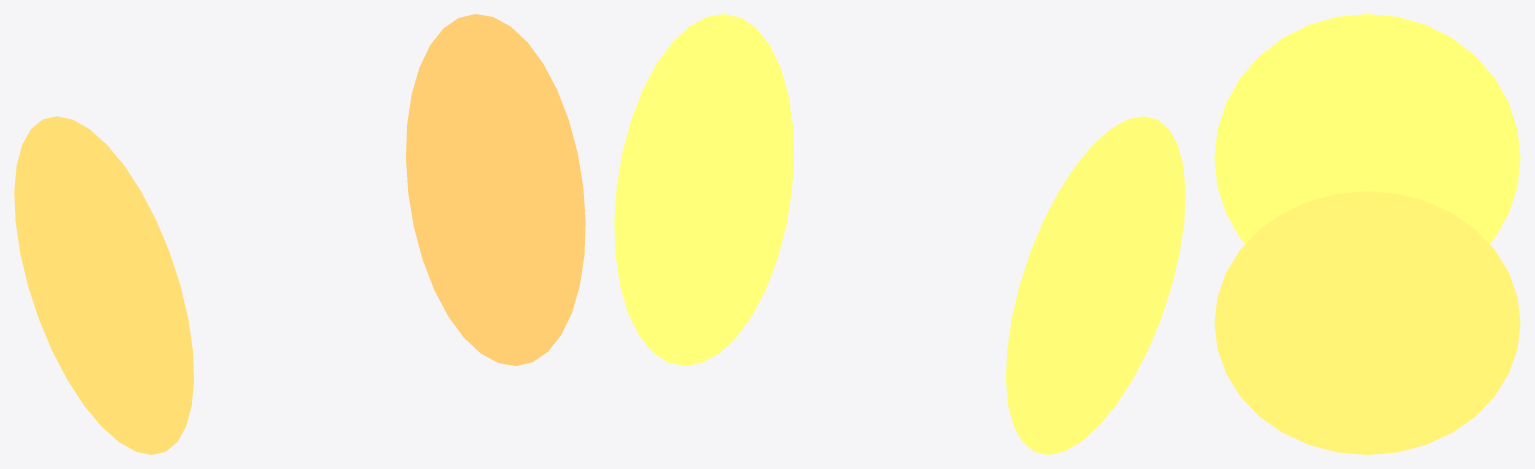
The model's file is FTT_Window.fbx.
3 views of the same model, side by side, from view 1: azimuth 30°, elevation 25°; view 2: azimuth 150°, elevation 25°; view 3: azimuth 270°, elevation 25° (orthographic). The views are drawn at different scales.
Visible parts, largest first — view 1: Circle; view 2: Circle; view 3: Circle.
Part boxes in pixels (x1,y1,x2,y2): Circle: (14, 14, 585, 454); Circle: (614, 14, 1185, 454); Circle: (1214, 14, 1520, 454).
Size of the model in its own units: 176 by 128 by 128.
